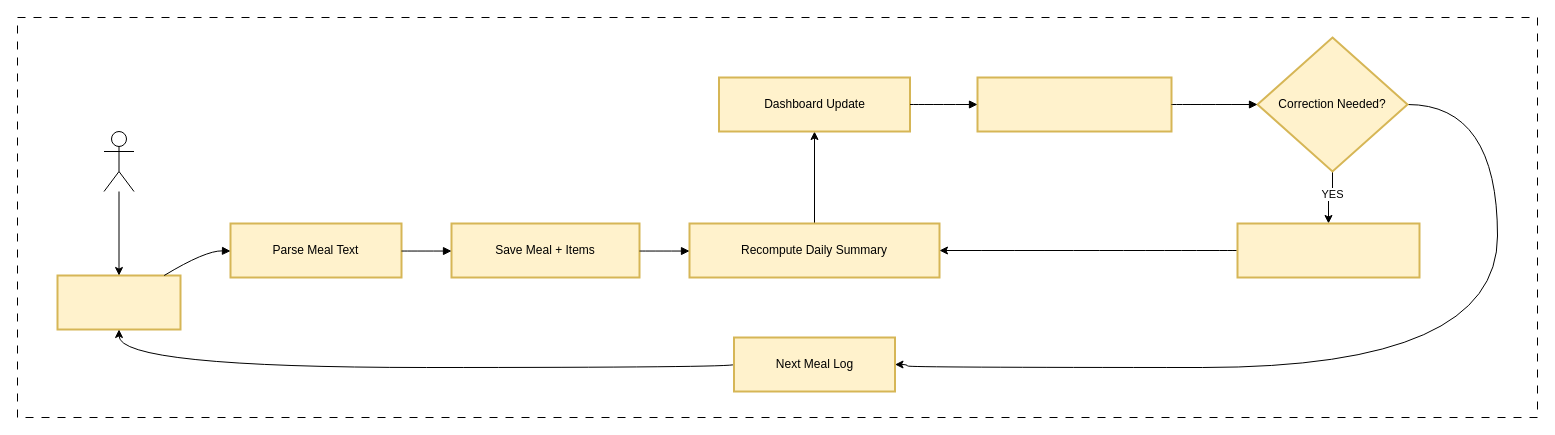
The diagram is 1555 pixels wide and 435 high, and some of its shapes have lost their labels. Each missing label, with the centre of its shape:
"Ask Chat Guidance" goes at pixel 1074 104.
"Edit/Delete Meal" goes at pixel 1328 250.
"Log Meal" goes at pixel 118 302.
